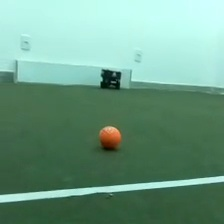ball: (96, 122, 123, 151)
goal: (13, 57, 134, 91)
robot: (99, 67, 122, 91)
